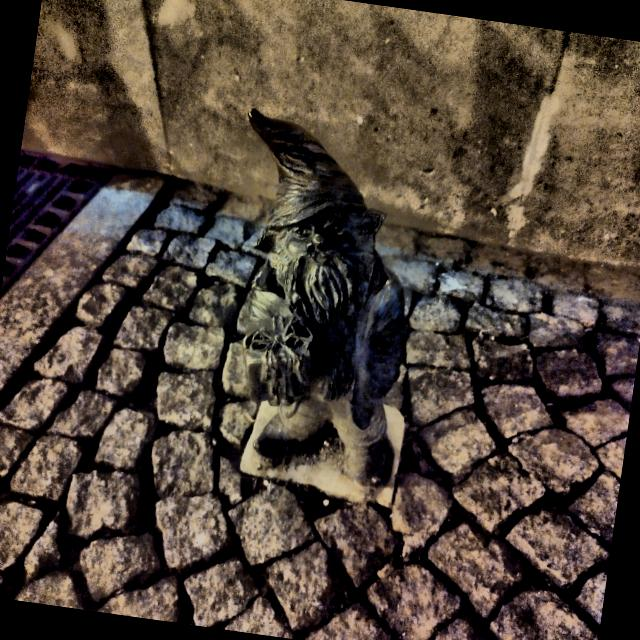Suvenirek: (243, 110, 407, 499)
